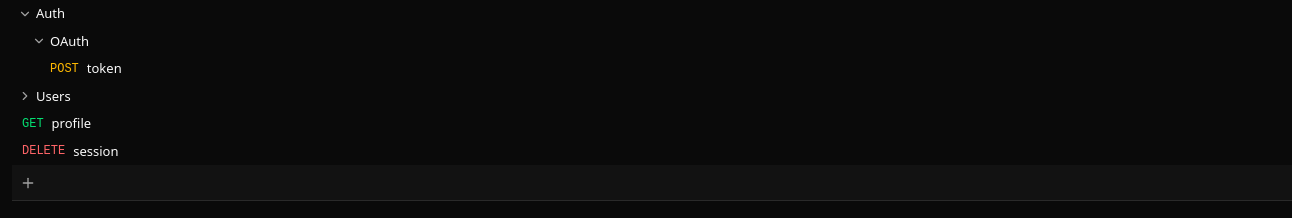
SidebarTree › should select a request and open its tab when a request leaf is clicked
The width and height of the screenshot is (1292, 218).
Click the list item "POST token" at (86, 68), box top-left (50, 59), bottom-right (122, 77)
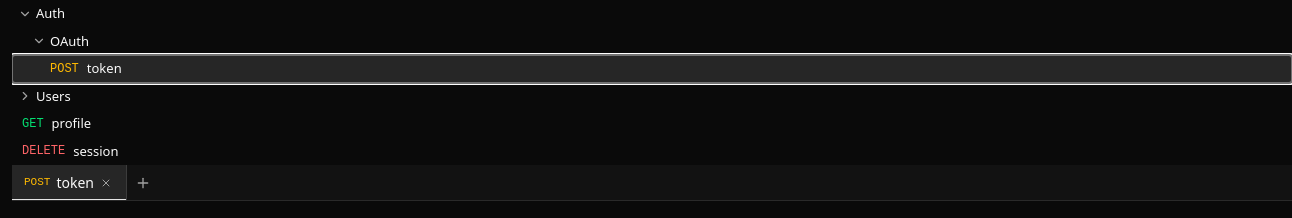
Check: the tab "POST token" is shown, box top-left (24, 173), bottom-right (94, 193)
